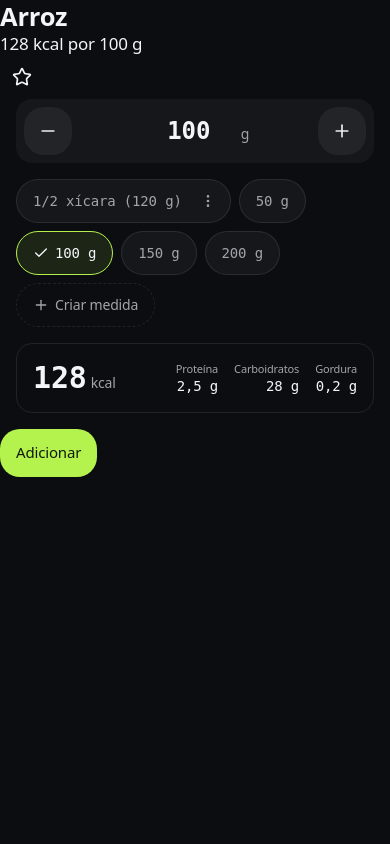
Scenario: PortionSheet household measures › in pt-BR › keeps the number in a personal label as typed: "1/2 xícara"
Click the button "1/2 xícara (120 g)". click: click(101, 201)
box: [17,180,186,222]
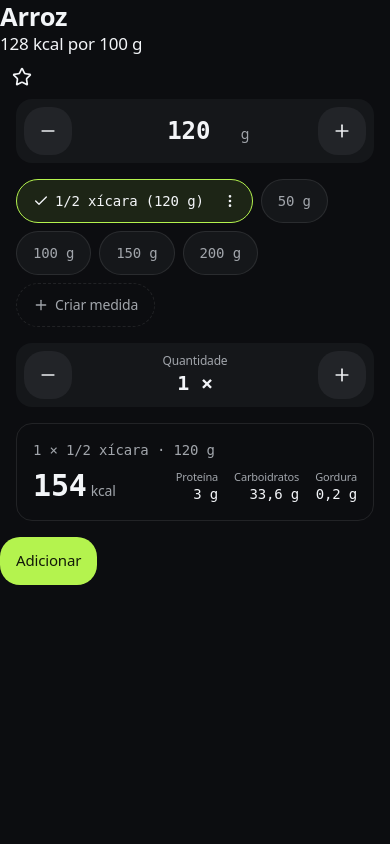
Click the button named "Meia medida a mais". click: click(342, 375)
box: [318,351,366,399]
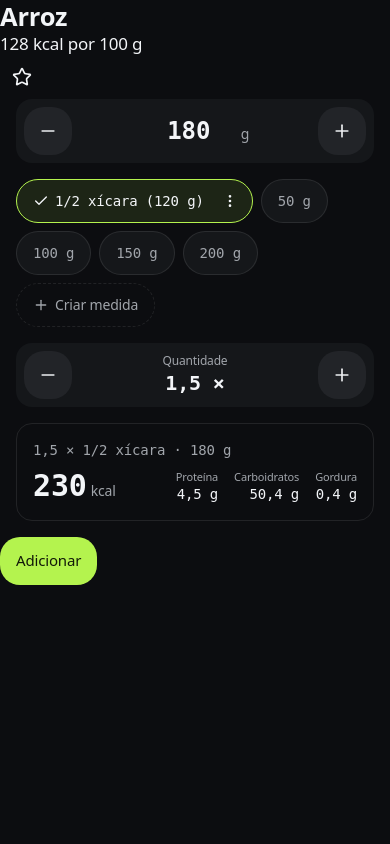
Click the button named "Meia medida a mais". click: click(342, 375)
box: [318,351,366,399]
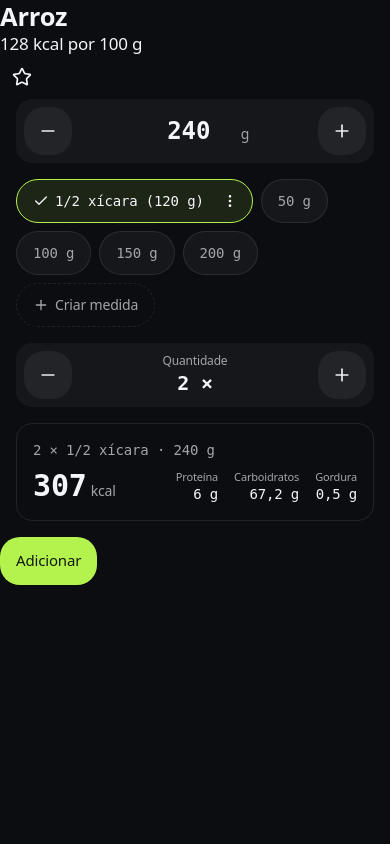
Result: the text with test id "portion-measure" reads "2 × 1/2 xícara · 240 g" at [33,442,215,458]
